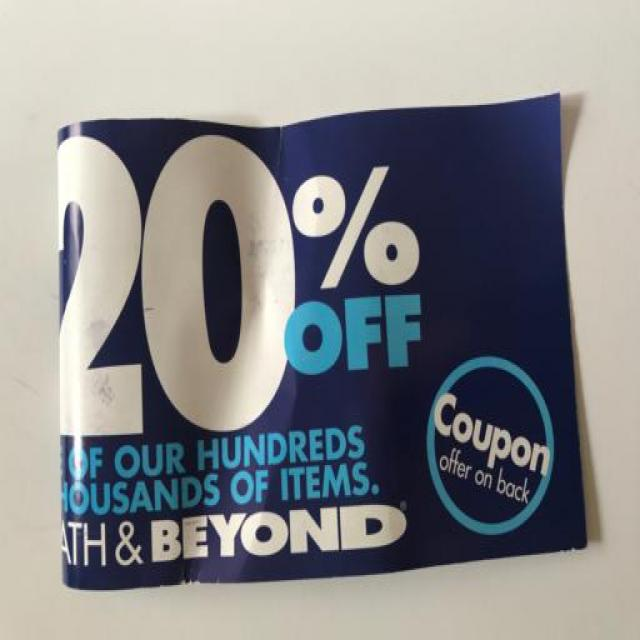paper: (27, 64, 640, 640)
